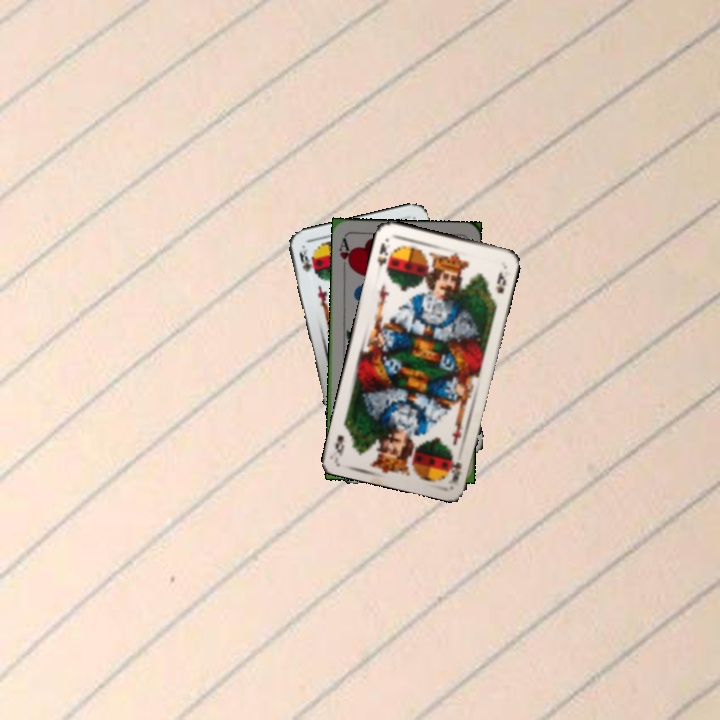HA: (335, 234, 355, 274)
SK: (373, 235, 394, 275), (295, 243, 314, 275), (446, 457, 464, 485)
